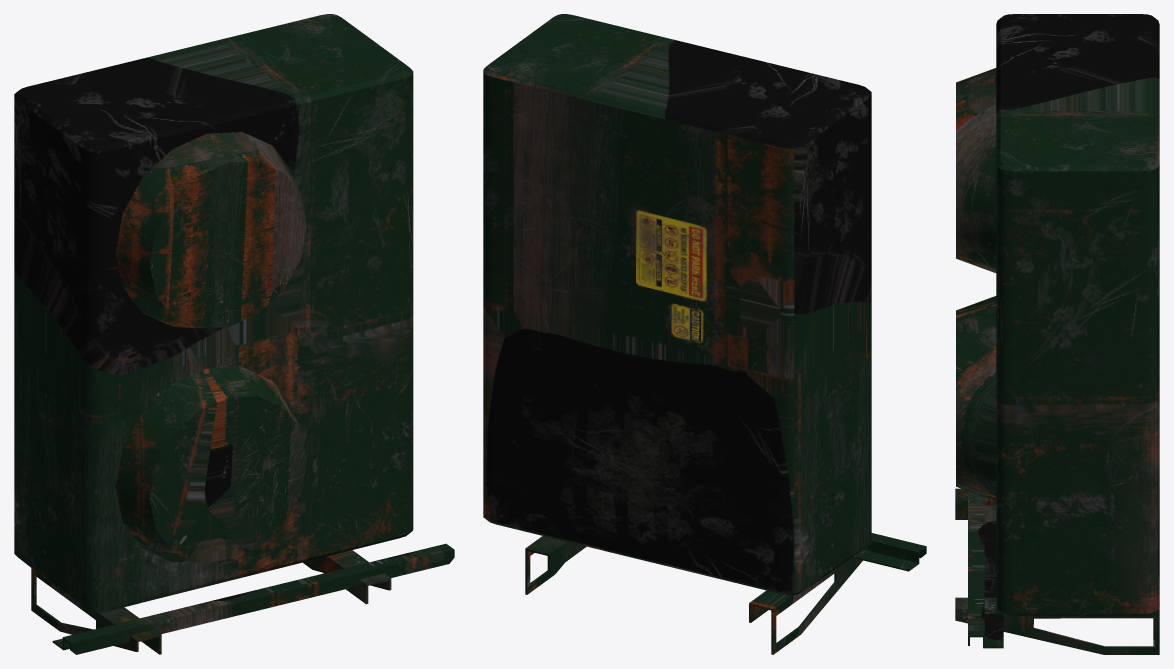
3 views of the same model, side by side, from view 1: azimuth 30°, elevation 25°; view 2: azimuth 150°, elevation 25°; view 3: azimuth 270°, elevation 25° (orthographic). The views are drawn at different scales.
Visible parts, largest first — view 1: aircon_low; view 2: aircon_low; view 3: aircon_low.
Boxes of the visible parts, x1,y1,x2,y2 form: aircon_low: (14,14,454,654); aircon_low: (483,14,926,654); aircon_low: (955,14,1159,654).
Bounding box in the file's own units: 1.52 × 2 × 0.7238.
